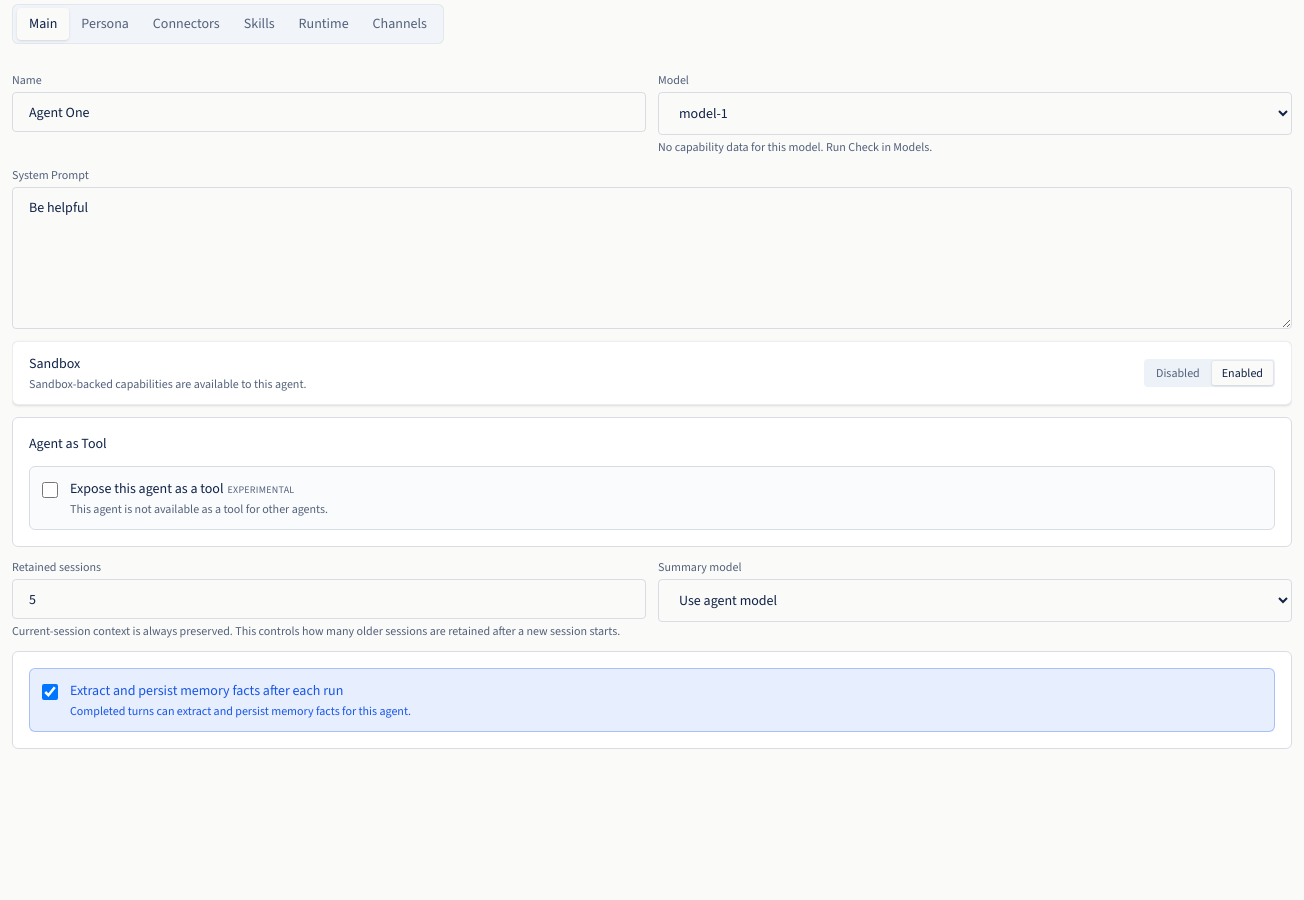
Test: agent channels tab › disables a separate bot until the account has a device ID
The image size is (1304, 900).
Click the tab "Channels" at (400, 24), box [361, 8, 439, 40]
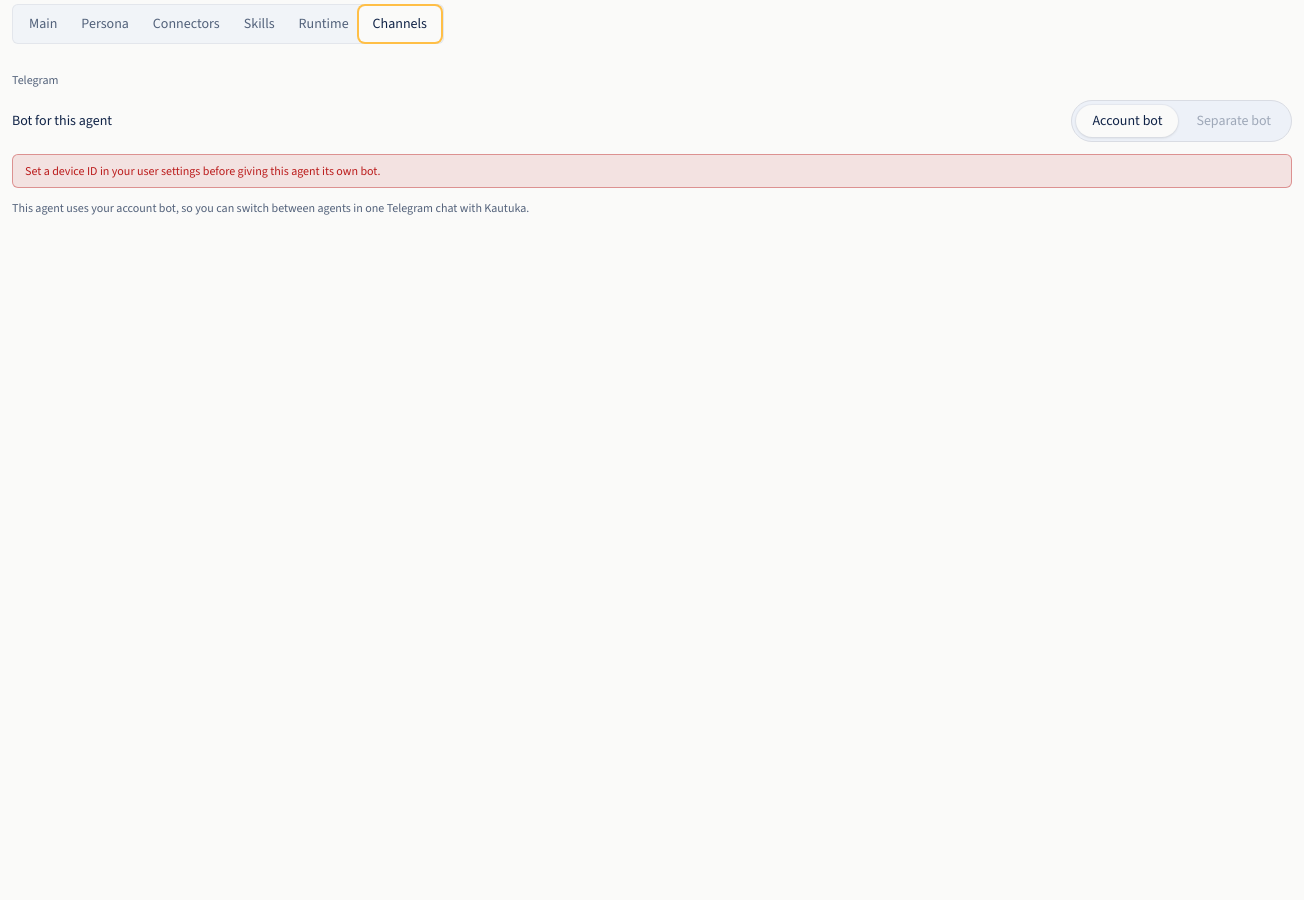
Expected: the button "Account bot" is shown, [1076, 105, 1178, 137]
Expected: the text "Set a device ID in your user settings before giving this agent its own bot." is shown, [12, 154, 1292, 188]
Expected: the button "Separate bot" is disabled, [1180, 105, 1287, 137]
